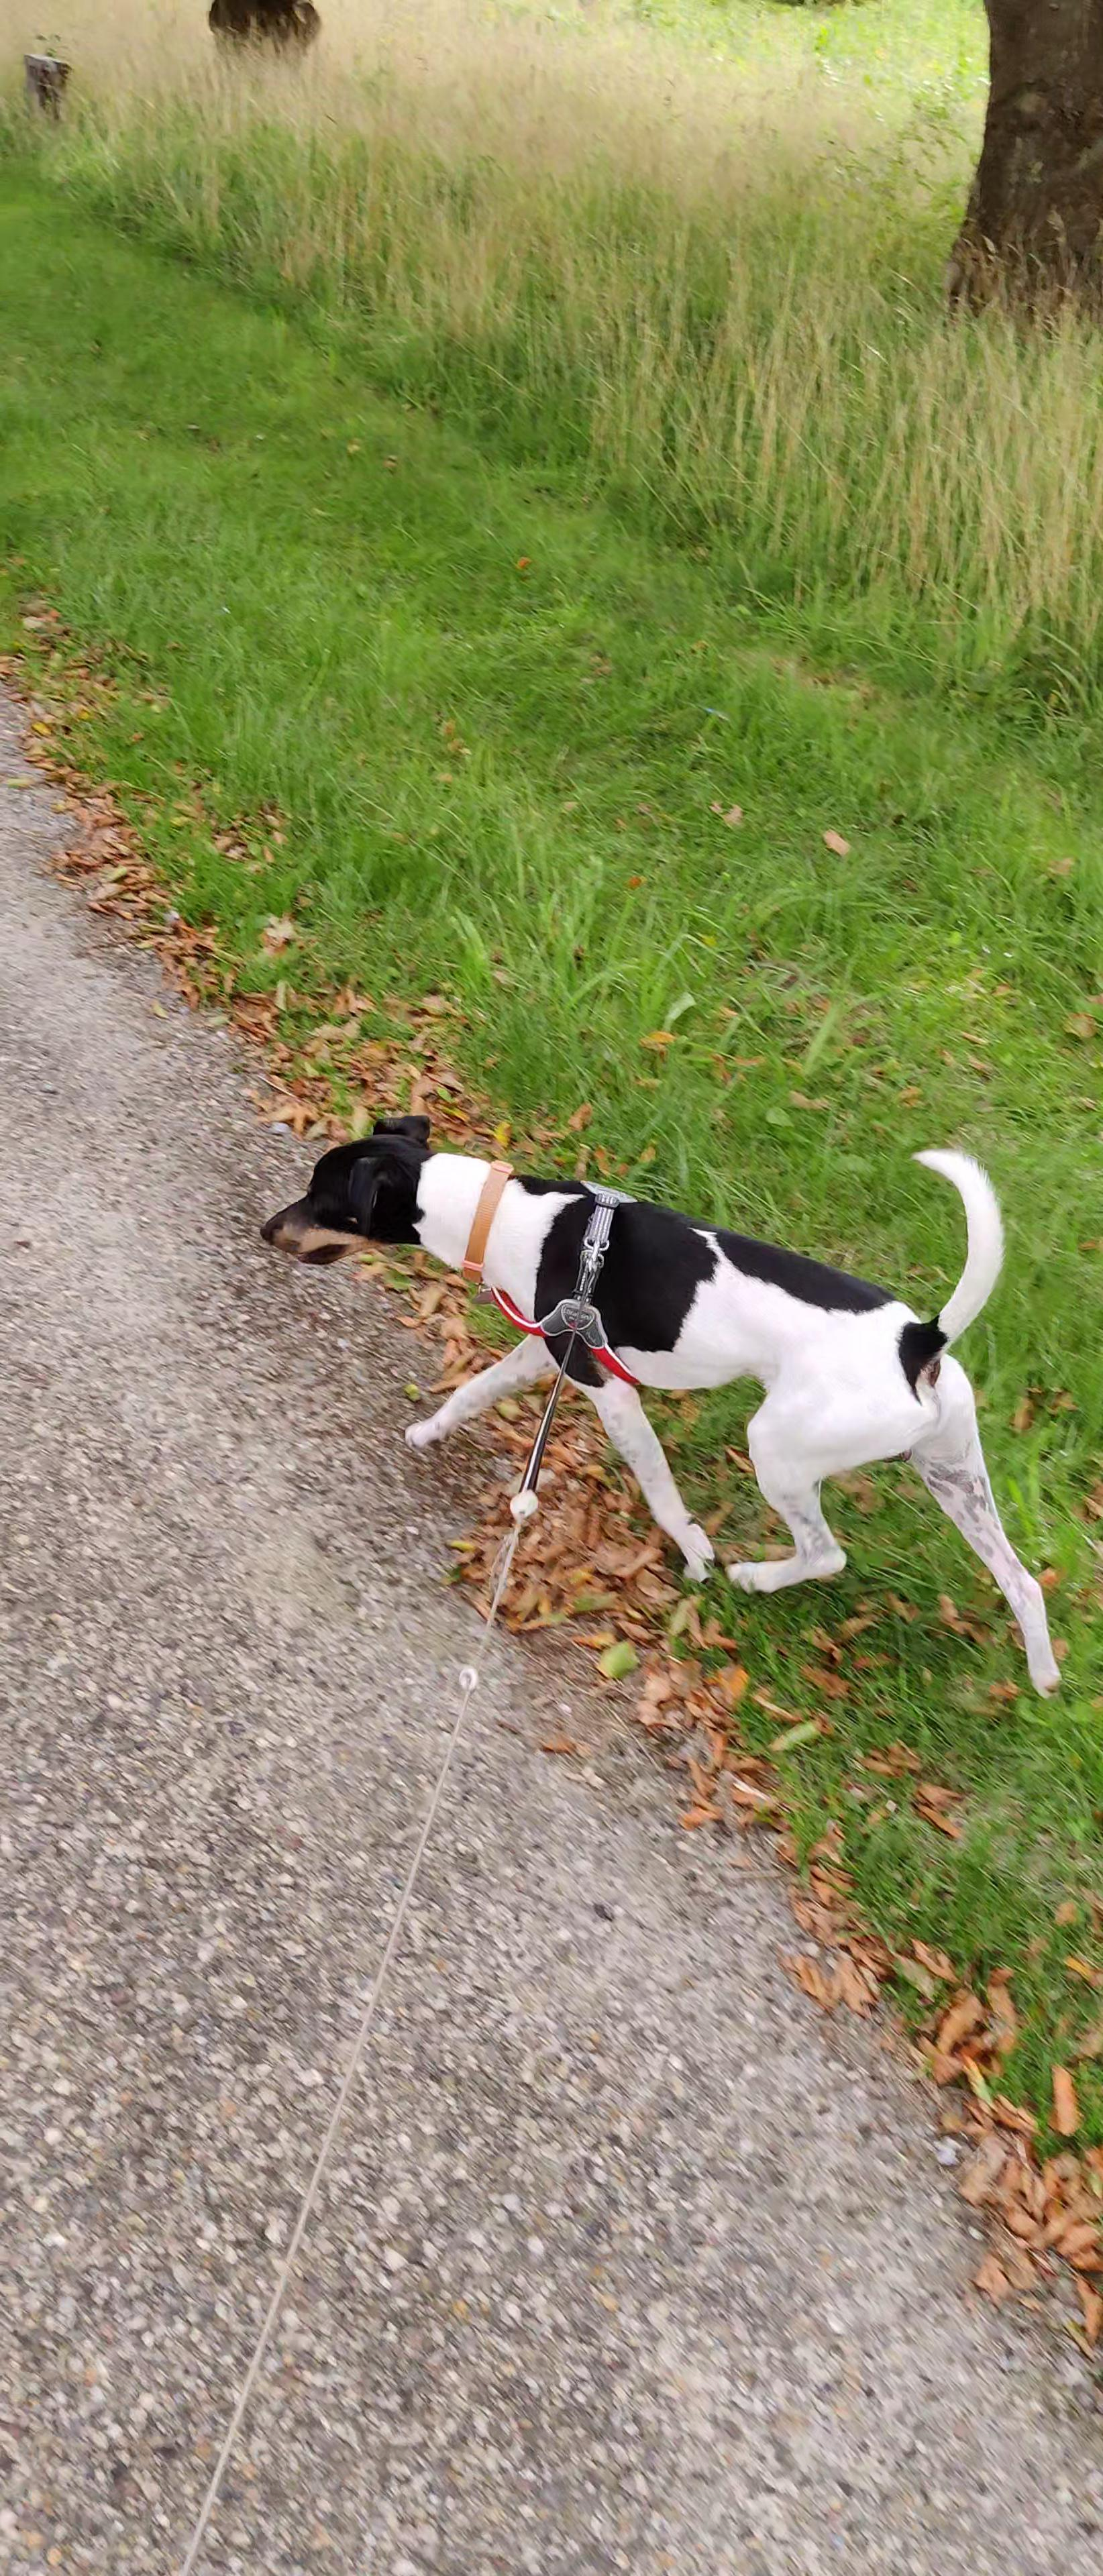Dog: (250, 1114, 1065, 1702)
